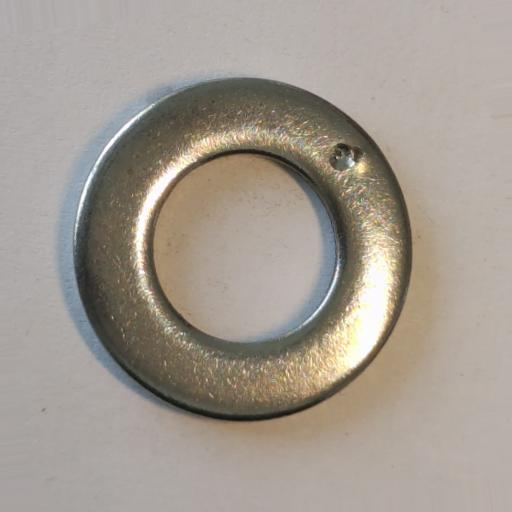circular_cavity: (327, 142, 366, 171)
